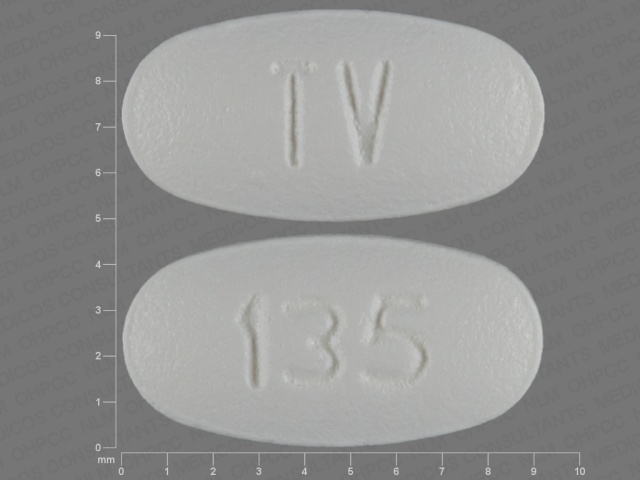1: (234, 290, 270, 397)
3: (276, 292, 350, 394)
5: (353, 290, 433, 389)
T: (269, 55, 321, 177)
V: (332, 53, 394, 173)
